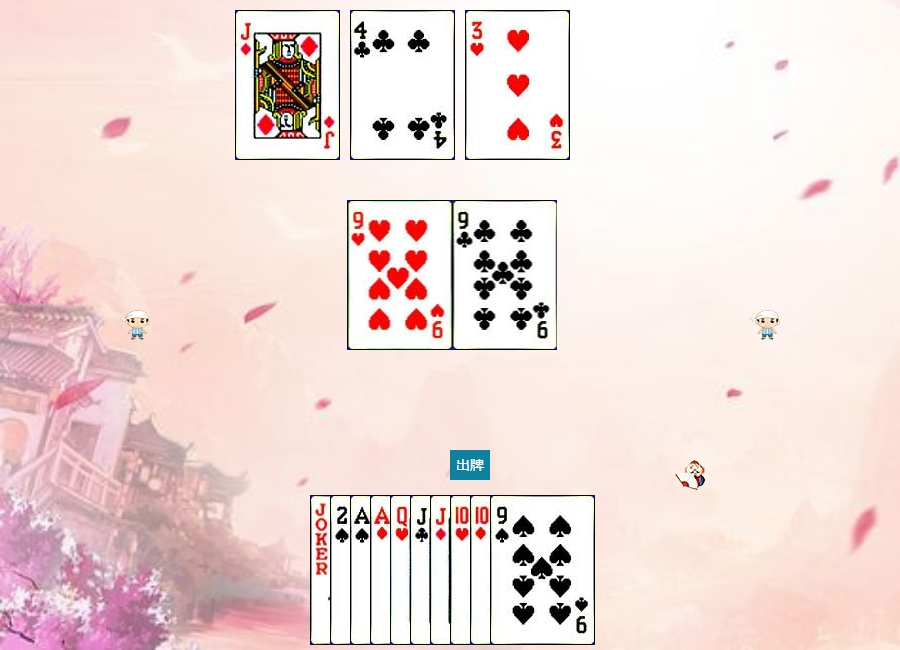10~1: (470, 495, 575, 645)
10~3: (450, 495, 555, 645)
11~1: (235, 10, 340, 160), (430, 495, 535, 645)
11~2: (410, 495, 515, 645)
12~3: (390, 495, 495, 645)
14~1: (370, 495, 475, 645)
14~4: (350, 495, 455, 645)
15~4: (330, 495, 435, 645)
18~4: (310, 495, 415, 645)
3~3: (465, 10, 570, 160)
4~2: (350, 10, 455, 160)
9~2: (453, 200, 558, 350)
9~3: (348, 200, 453, 350)
9~4: (490, 495, 595, 645)
